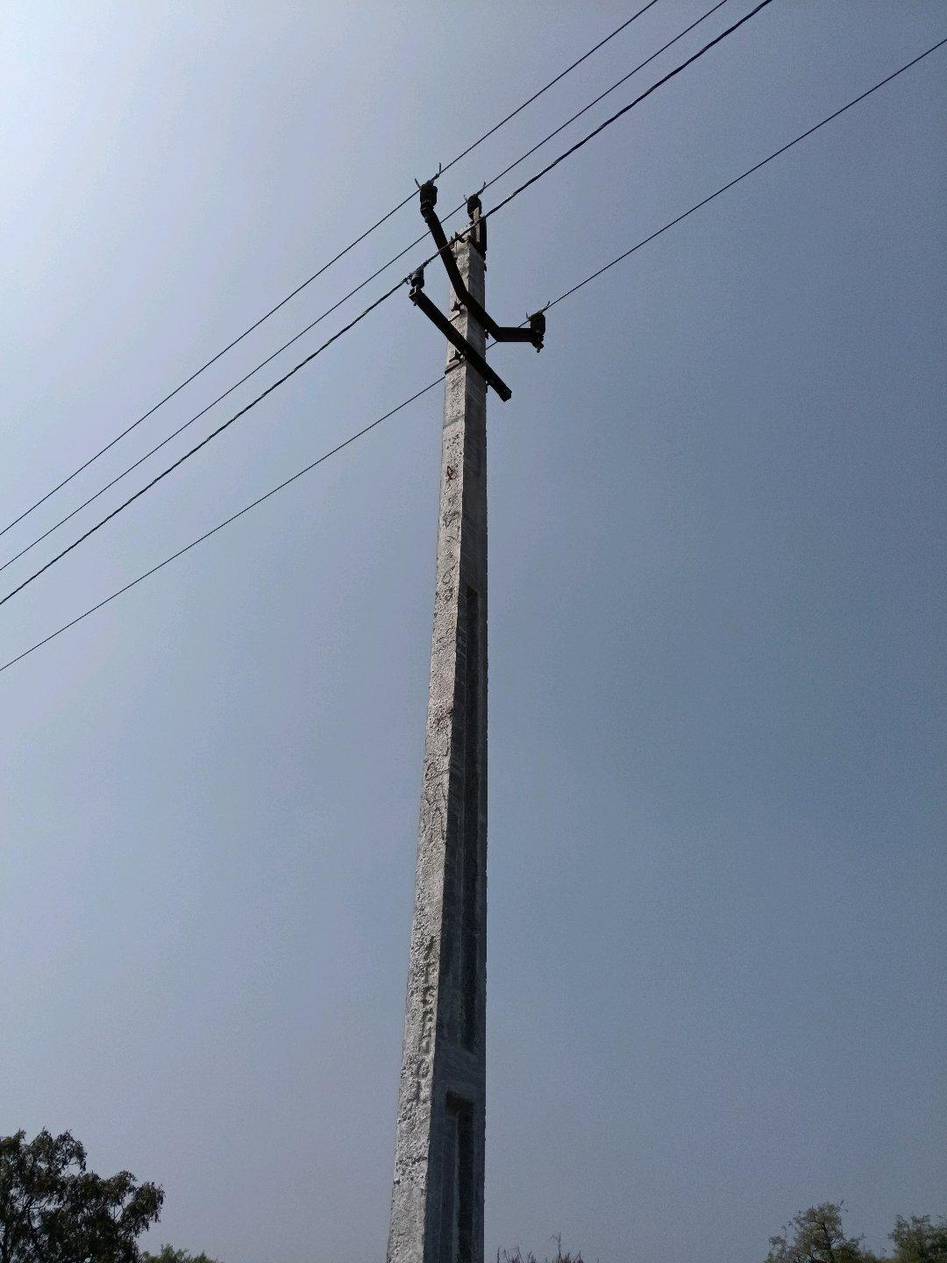{"0" "insulator", "1" "pole", "2" "crossarm", "3" "conductor", "4" "street_: (386, 181, 545, 1262), (548, 155, 565, 169), (521, 177, 540, 189), (503, 196, 515, 205)
